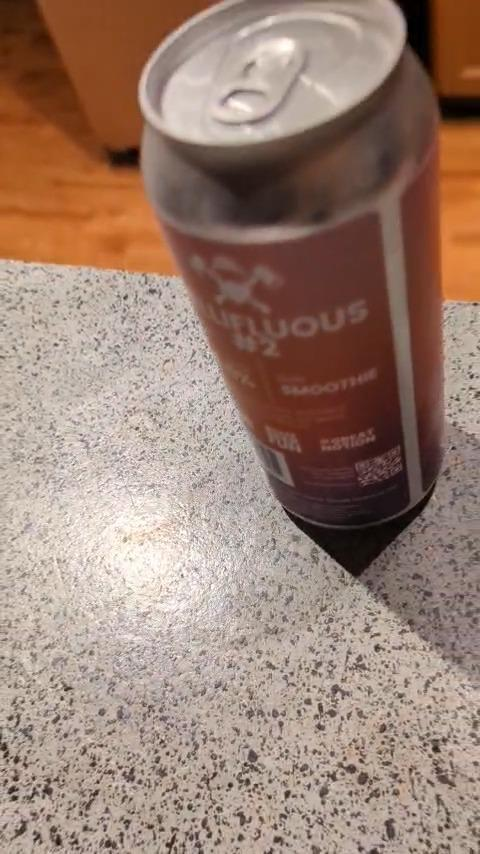metal: (139, 0, 443, 529)
